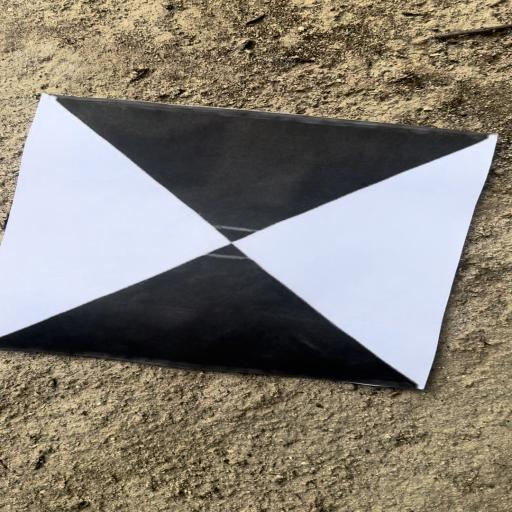target: (0, 93, 498, 391)
